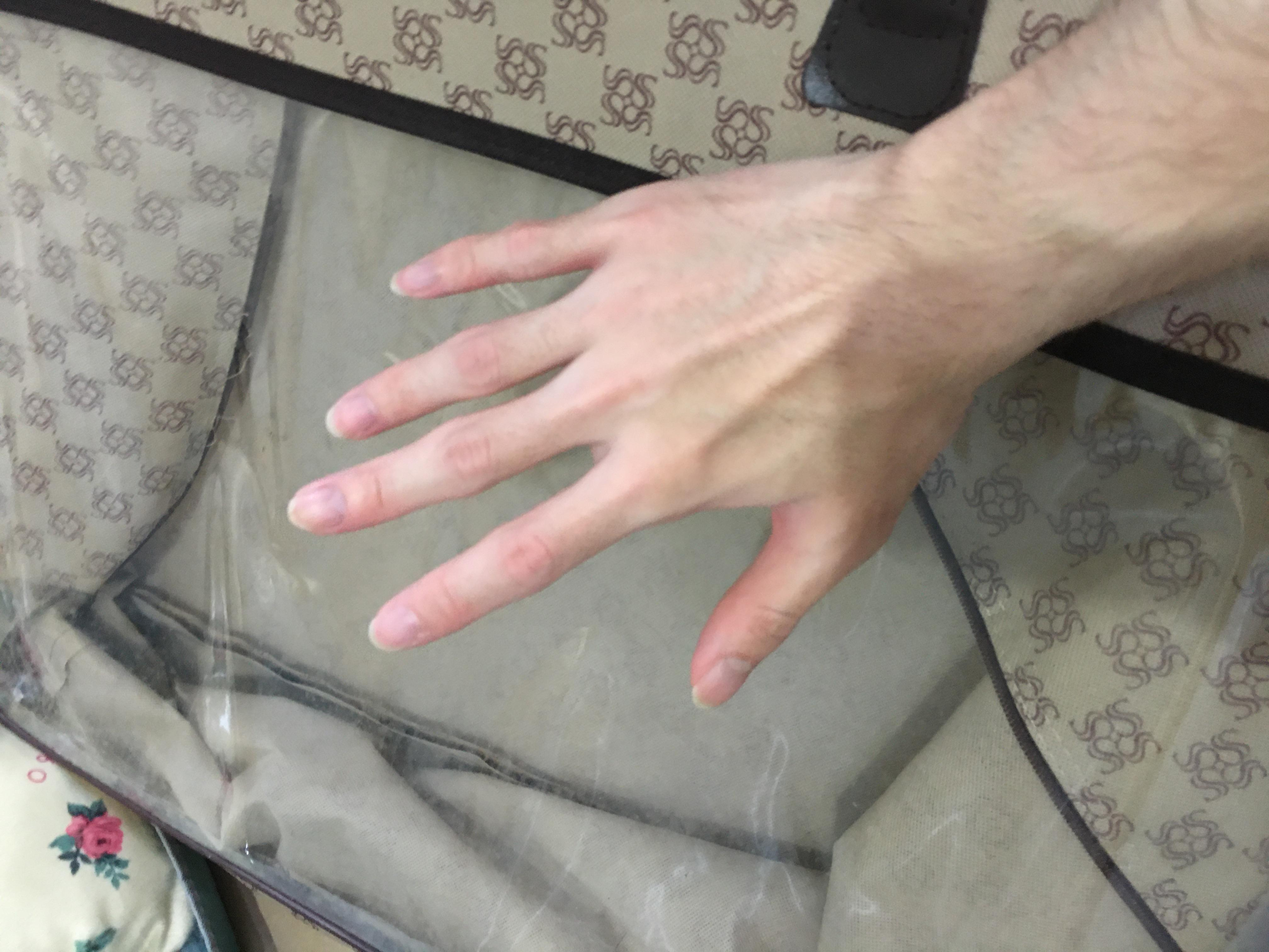palm: (316, 211, 1083, 696)
